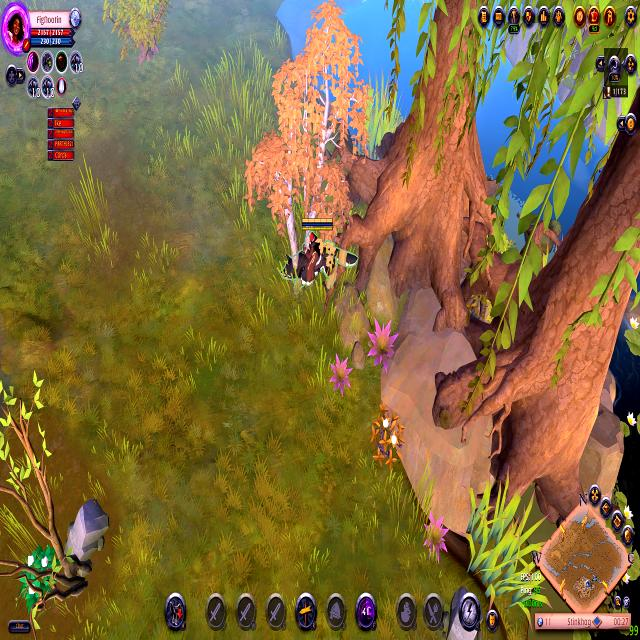hide: (366, 392, 408, 478), (12, 544, 61, 616)
red: (274, 209, 365, 295)
wisp caged: (242, 2, 377, 302)
